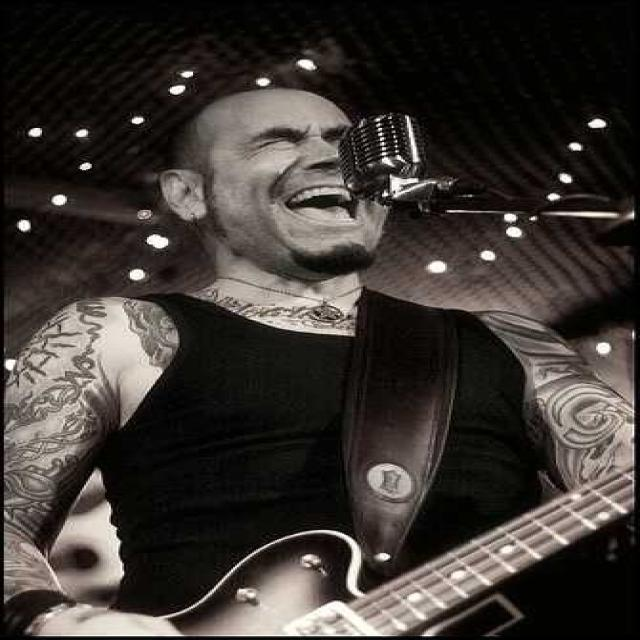microphone: (338, 113, 620, 224)
